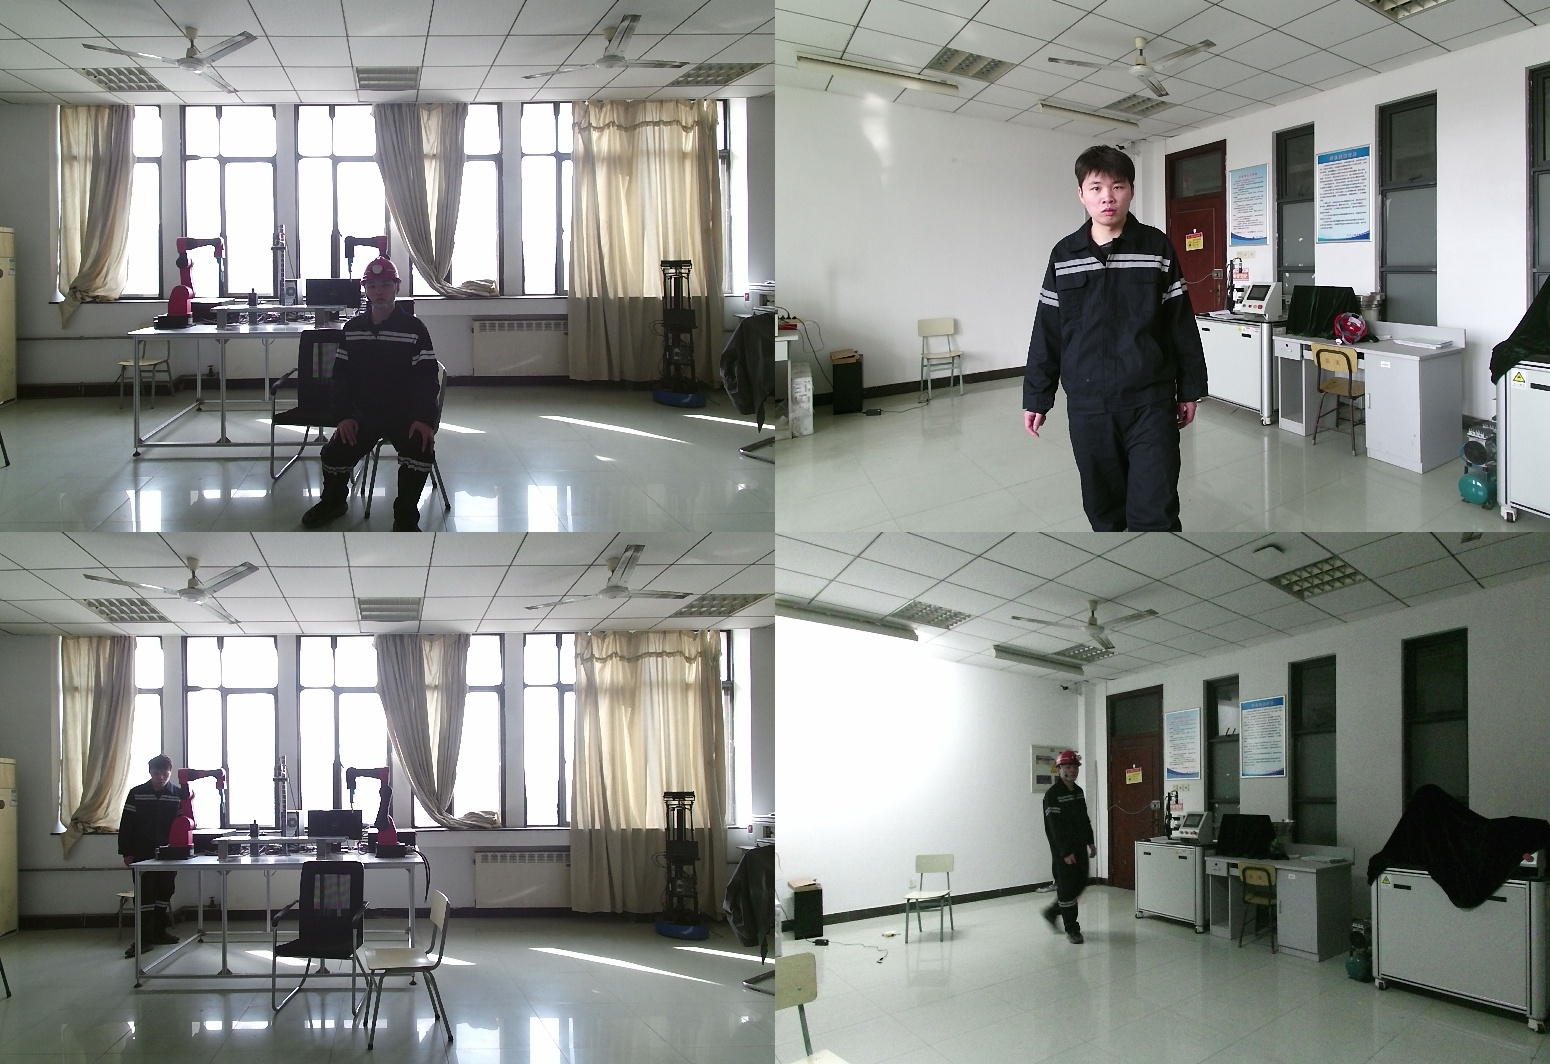person: (1023, 146, 1223, 532), (305, 257, 455, 532), (116, 755, 188, 960), (1032, 752, 1093, 951)
